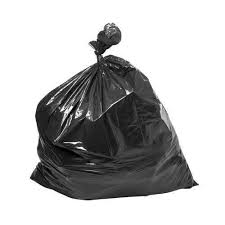Trash: (21, 19, 206, 202)
